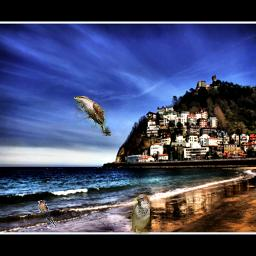Cuckoo: (74, 96, 111, 136)
Sparrow: (130, 194, 150, 234)
Swallow: (38, 200, 56, 227)
